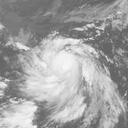cyclone: (19, 35, 118, 116)
